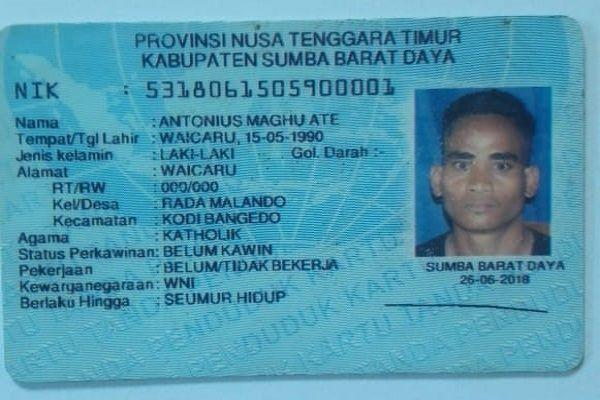ID-card: (6, 15, 582, 380)
